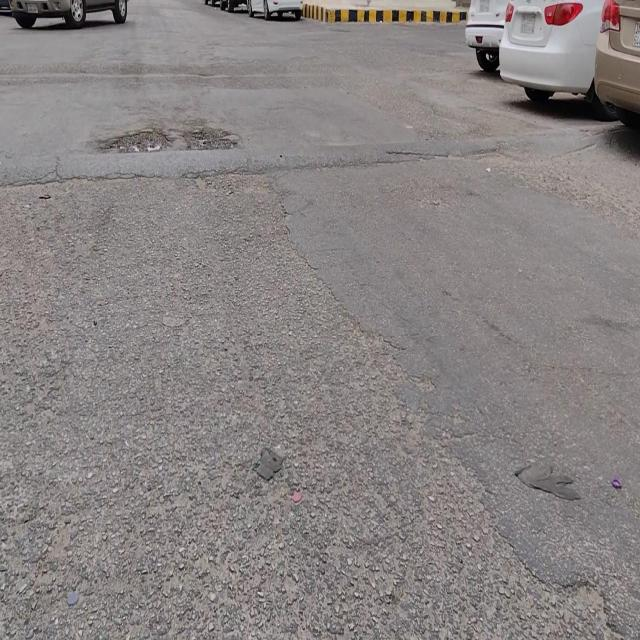Potholes: (105, 126, 173, 155), (182, 126, 237, 151)
